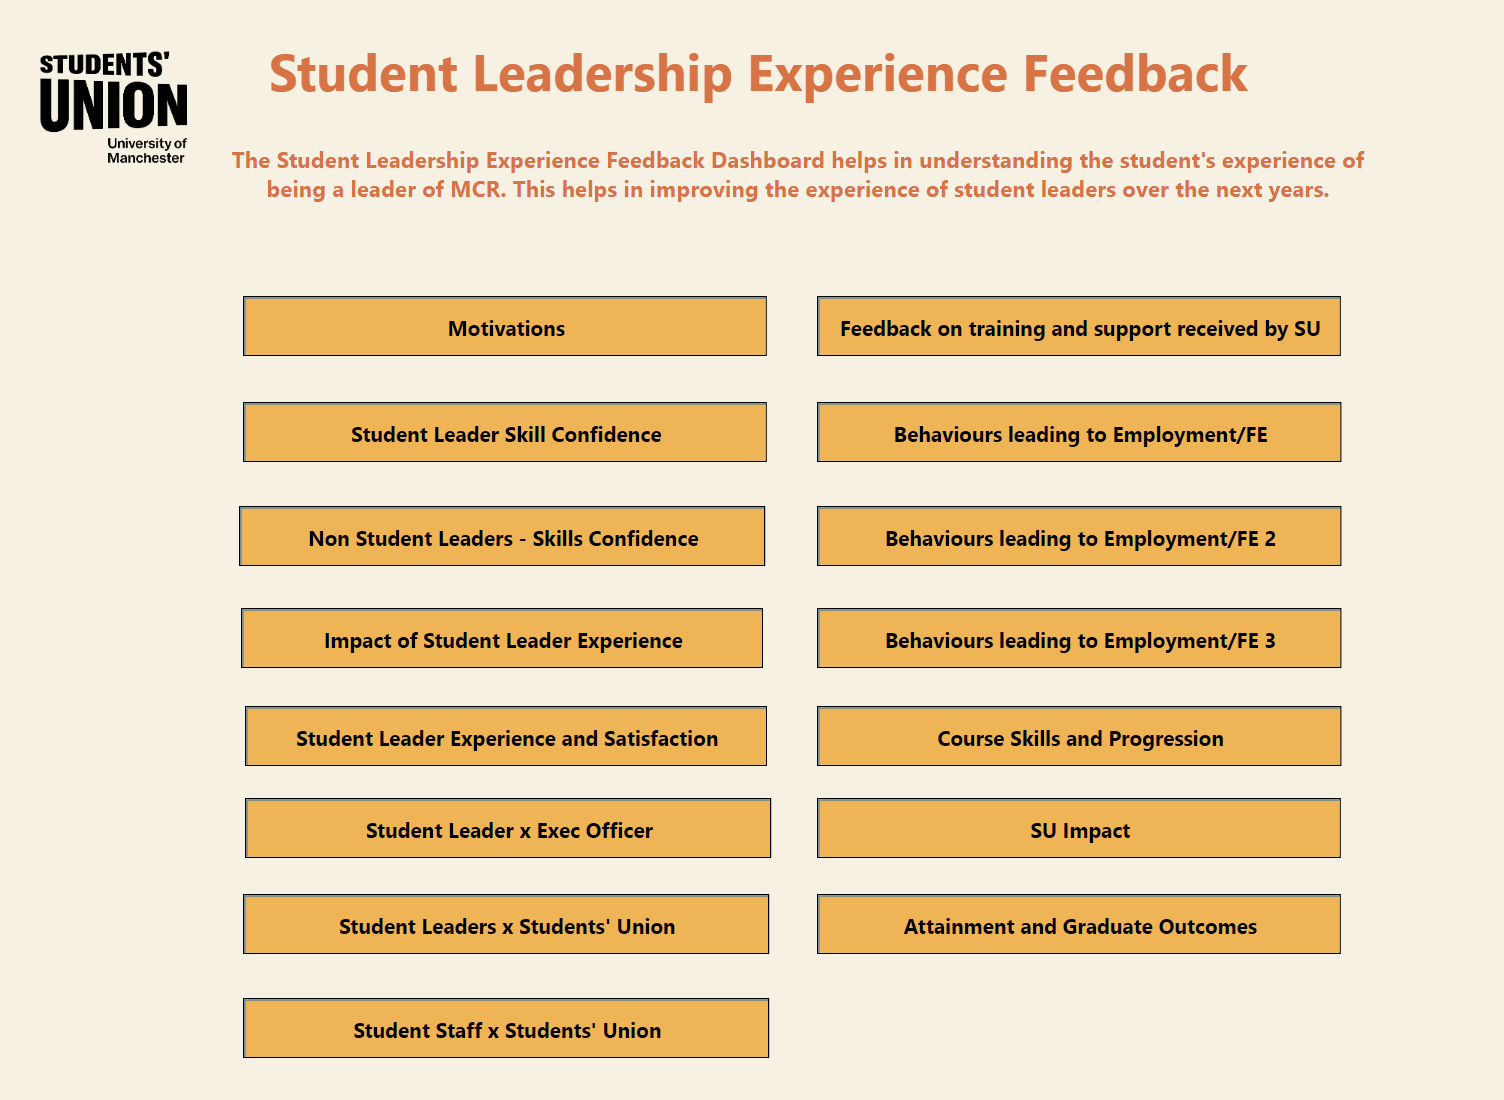

What the dashboard file says about the page in this screenshot:
{"tool":"powerbi","page":{"name":"Menu","canvas":[1280,950],"ordinal":0},"visuals":[{"type":"textbox","box":[231.7,28.3,898.3,93.3],"z":0},{"type":"textbox","box":[190,118.3,975,68.3],"z":1000},{"type":"image","box":[0,0,231.7,186.7],"z":2000},{"type":"shape","title":"Where did you hear about Student Support Hubs?","box":[215,250,436.7,50],"z":3000},{"type":"shape","title":"Where did you hear about Student Support Hubs?","box":[693.3,250,436.7,50],"z":4000},{"type":"shape","title":"Where did you hear about Student Support Hubs?","box":[215,338.3,436.7,50],"z":5000},{"type":"shape","title":"Where did you hear about Student Support Hubs?","box":[213.3,510,435,50],"z":6000},{"type":"shape","title":"Where did you hear about Student Support Hubs?","box":[216.7,591.7,435,50],"z":7000},{"type":"shape","title":"Where did you hear about Student Support Hubs?","box":[216.7,668.3,438.3,50],"z":8000},{"type":"shape","title":"Where did you hear about Student Support Hubs?","box":[692.9,591.4,437.1,50],"z":9000},{"type":"shape","title":"Where did you hear about Student Support Hubs?","box":[692.9,338.6,437.1,50],"z":10000},{"type":"shape","title":"Where did you hear about Student Support Hubs?","box":[692.9,425.7,437.1,50],"z":11000},{"type":"shape","title":"Where did you hear about Student Support Hubs?","box":[692.9,510,437.1,50],"z":12000},{"type":"shape","title":"Where did you hear about Student Support Hubs?","box":[693.3,748.3,436.7,50],"z":13000},{"type":"shape","title":"Where did you hear about Student Support Hubs?","box":[693.3,668.3,436.7,50],"z":14000},{"type":"shape","title":"Where did you hear about Student Support Hubs?","box":[215,748.3,438.3,50],"z":15000},{"type":"shape","title":"Where did you hear about Student Support Hubs?","box":[215,835,438.3,50],"z":16000},{"type":"shape","title":"Where did you hear about Student Support Hubs?","box":[211.7,425,438.3,50],"z":16001}]}

Visuals, with their boxes in screenshot pixels (x1, y1, x2, y2), scaled from the page's 1280x950 canvas onto the 1504x1100 screenshot:
textbox: <region>272, 33, 1328, 141</region>
textbox: <region>223, 137, 1369, 216</region>
image: <region>0, 0, 272, 216</region>
"Where did you hear about Student Support Hubs?" shape: <region>253, 289, 766, 347</region>
"Where did you hear about Student Support Hubs?" shape: <region>815, 289, 1328, 347</region>
"Where did you hear about Student Support Hubs?" shape: <region>253, 392, 766, 450</region>
"Where did you hear about Student Support Hubs?" shape: <region>251, 591, 762, 648</region>
"Where did you hear about Student Support Hubs?" shape: <region>255, 685, 766, 743</region>
"Where did you hear about Student Support Hubs?" shape: <region>255, 774, 770, 832</region>
"Where did you hear about Student Support Hubs?" shape: <region>814, 685, 1328, 743</region>
"Where did you hear about Student Support Hubs?" shape: <region>814, 392, 1328, 450</region>
"Where did you hear about Student Support Hubs?" shape: <region>814, 493, 1328, 551</region>
"Where did you hear about Student Support Hubs?" shape: <region>814, 591, 1328, 648</region>
"Where did you hear about Student Support Hubs?" shape: <region>815, 866, 1328, 924</region>
"Where did you hear about Student Support Hubs?" shape: <region>815, 774, 1328, 832</region>
"Where did you hear about Student Support Hubs?" shape: <region>253, 866, 768, 924</region>
"Where did you hear about Student Support Hubs?" shape: <region>253, 967, 768, 1025</region>
"Where did you hear about Student Support Hubs?" shape: <region>249, 492, 764, 550</region>
